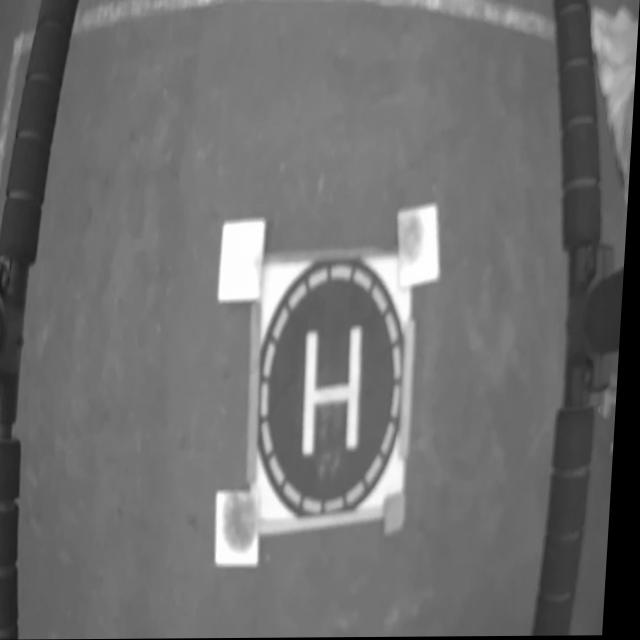Helipad: (307, 326, 368, 458)
